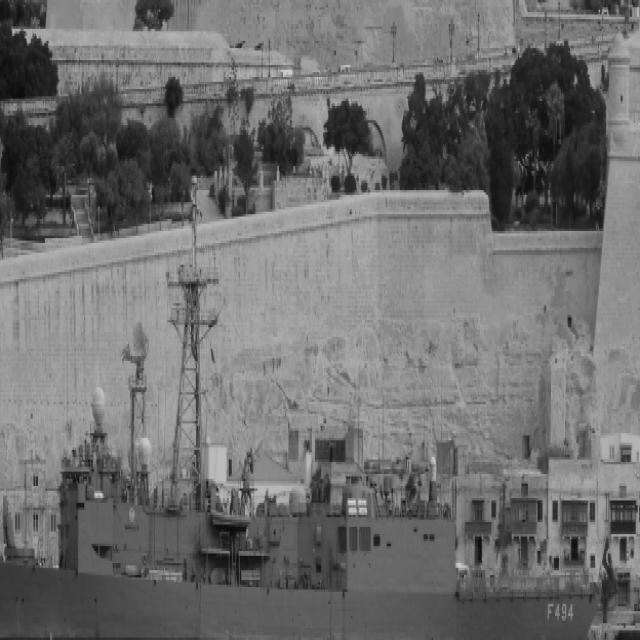Fragata: (1, 184, 601, 640)
